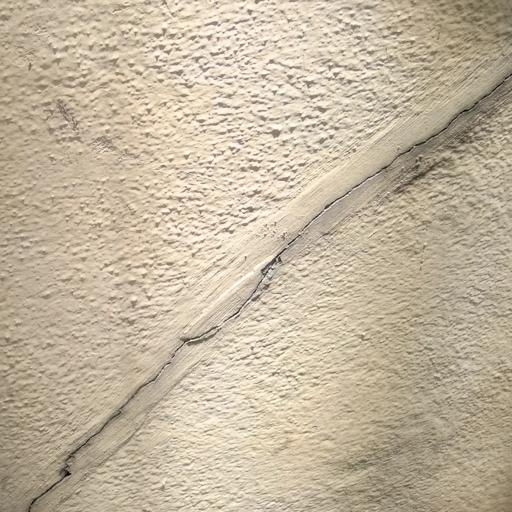minor_crack: (15, 53, 512, 512)
